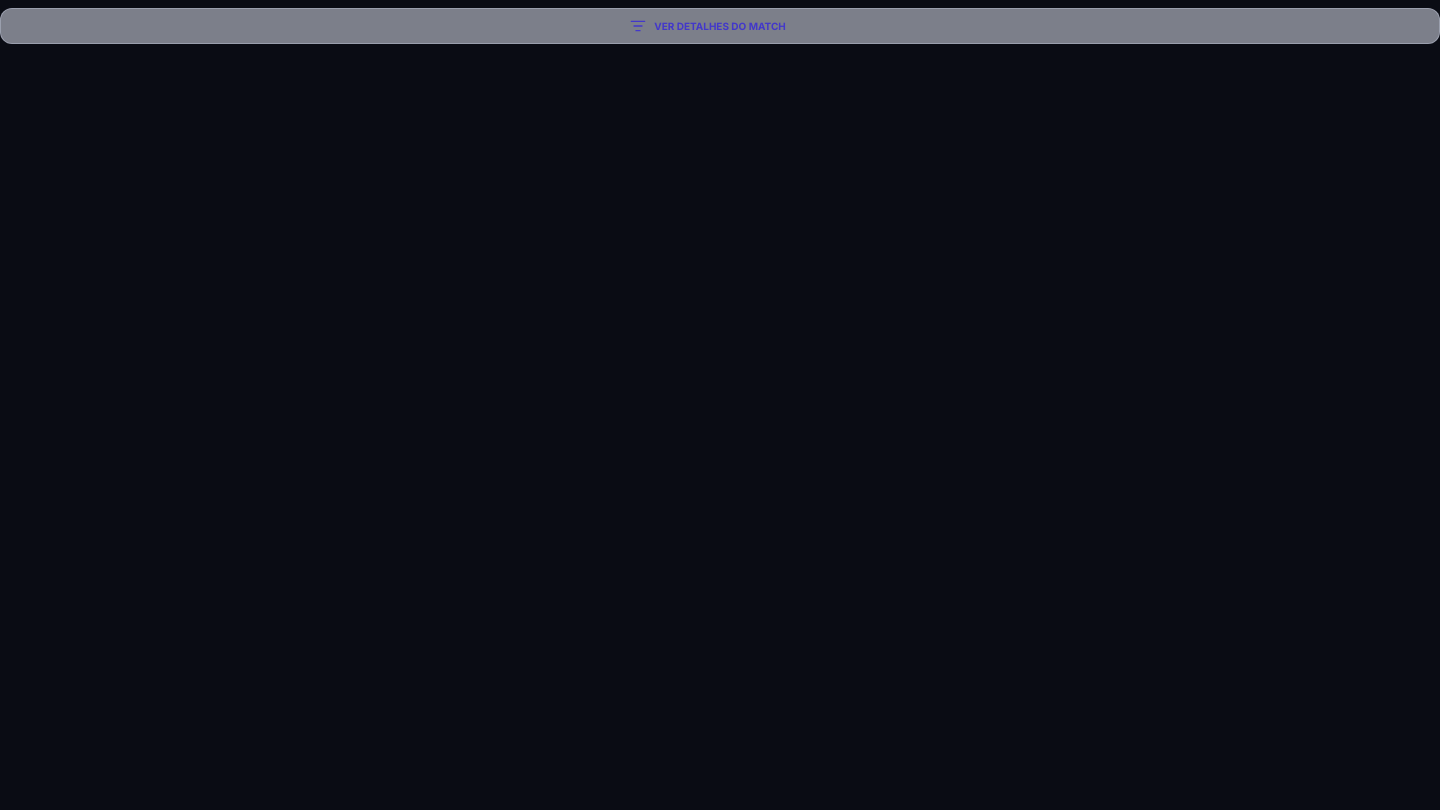
it: Consumidores do histórico social › informa ausência confirmada sem atribuir evidências a uma análise inexistente
Step 1. Click the button "VER DETALHES DO MATCH" → (720, 26), box [0, 8, 1439, 44]
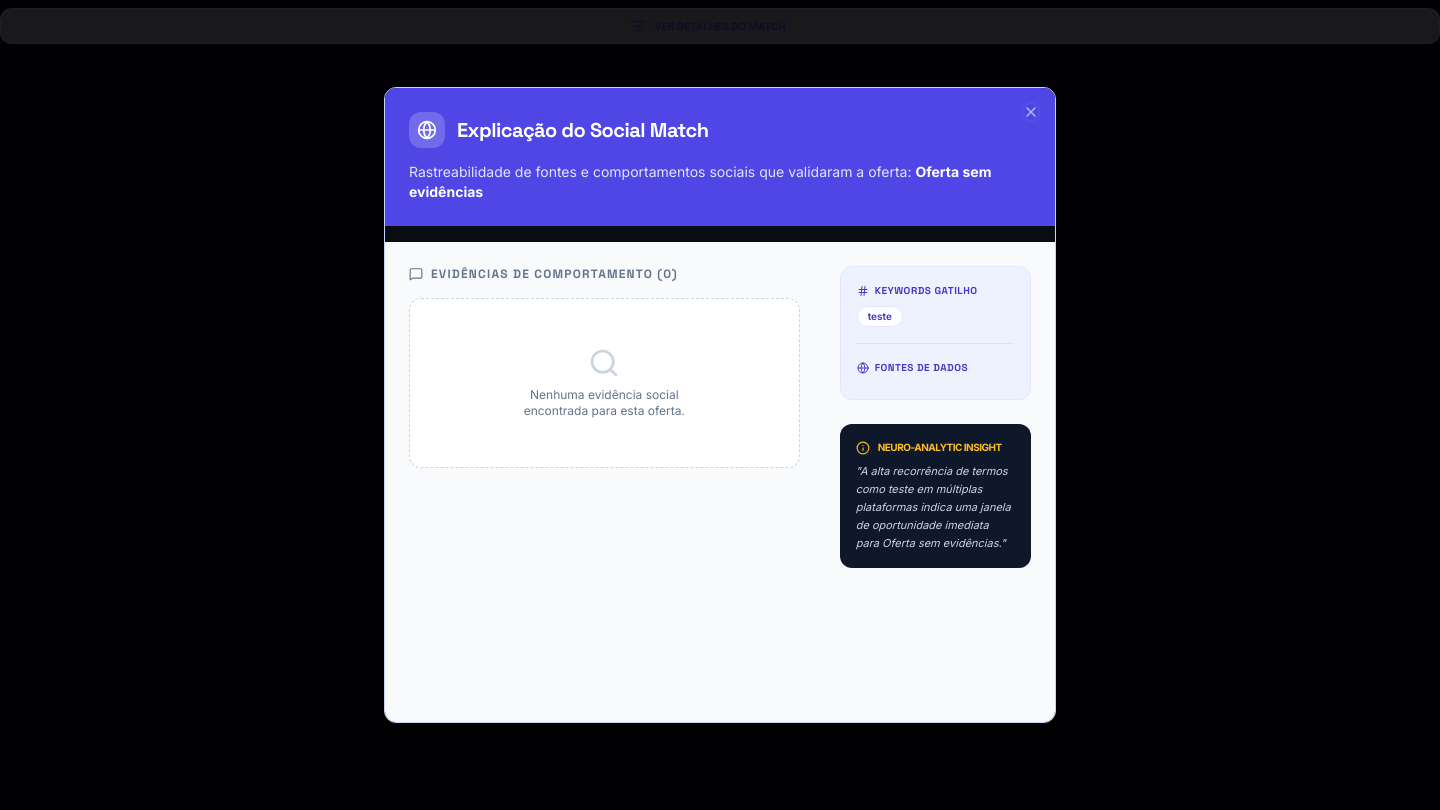
Now the text "Nenhuma evidência social encontrada para esta oferta." is shown, box [524, 387, 685, 418]
